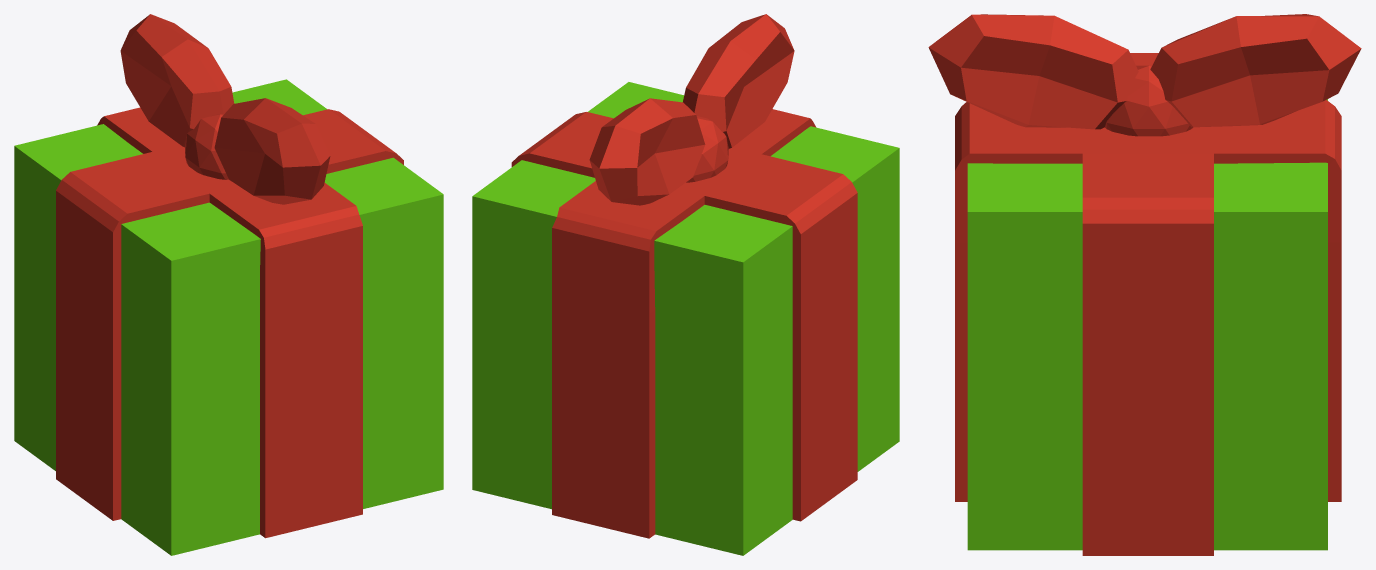
Rendered from present.fbx.
3 views of the same model, side by side, from view 1: azimuth 30°, elevation 25°; view 2: azimuth 150°, elevation 25°; view 3: azimuth 270°, elevation 25° (orthographic). The views are drawn at different scales.
Parts seen in each view (by area): view 1: Cube.001, Cube; view 2: Cube.001, Cube; view 3: Cube, Cube.001.
Part boxes in pixels (x1=…): Cube.001: x1=14, y1=79, x2=443, y2=555; Cube: x1=56, y1=14, x2=403, y2=538; Cube.001: x1=472, y1=82, x2=899, y2=555; Cube: x1=511, y1=14, x2=857, y2=538; Cube: x1=928, y1=14, x2=1361, y2=555; Cube.001: x1=967, y1=99, x2=1327, y2=550.
Size of the model in its own units: 183 by 239 by 206.
